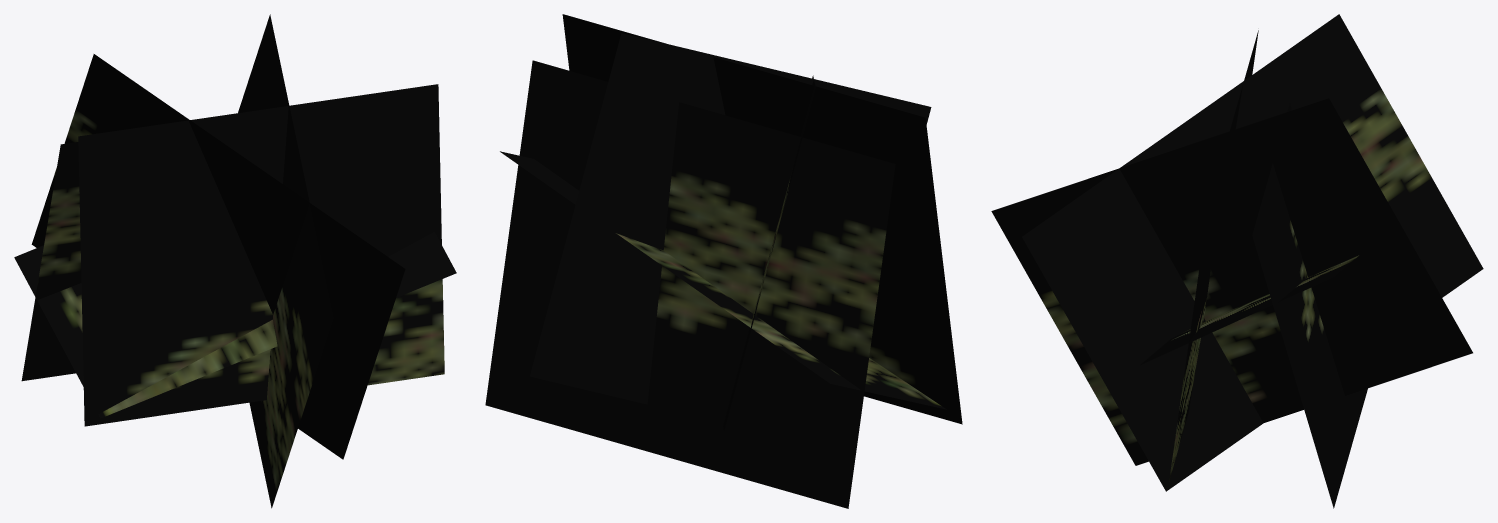
Rendered from pine_leaves_brown_vertical_slab_3.obj.
The picture shows the model from 3 angles, left to right: view 1: azimuth 30°, elevation 25°; view 2: azimuth 150°, elevation 25°; view 3: azimuth 270°, elevation 25°; orthographic projection. The views are drawn at different scales.
Visible parts, largest first — view 1: plane; view 2: plane; view 3: plane.
Part boxes in pixels (x1,y1,x2,y2): plane: [14, 14, 456, 508]; plane: [485, 14, 962, 508]; plane: [991, 14, 1483, 508].
Bounding box in the file's own units: 1.81 × 1.98 × 2.13.
